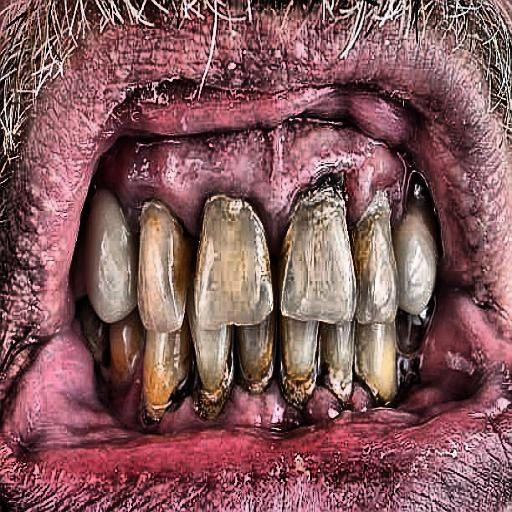Calculus: (114, 170, 430, 442)
